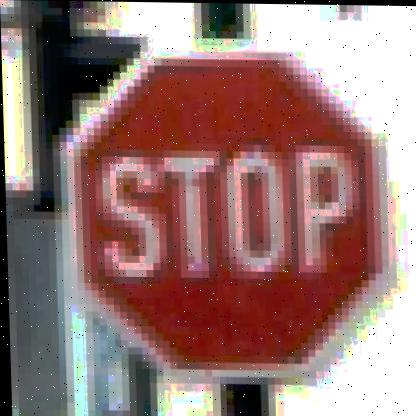Stop Sign: (53, 39, 395, 383)
